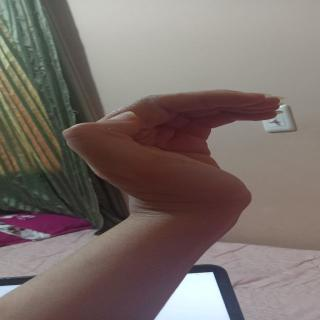HAA: (52, 86, 294, 232)
